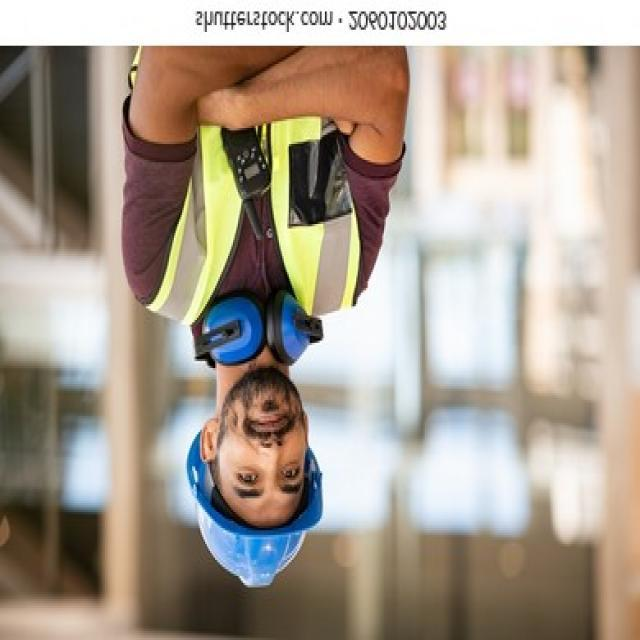safetyhelmet: (185, 387, 323, 589)
